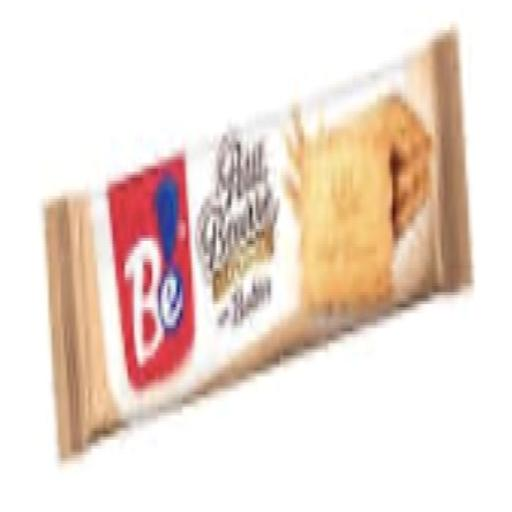petit_beurre: (21, 30, 473, 425)
